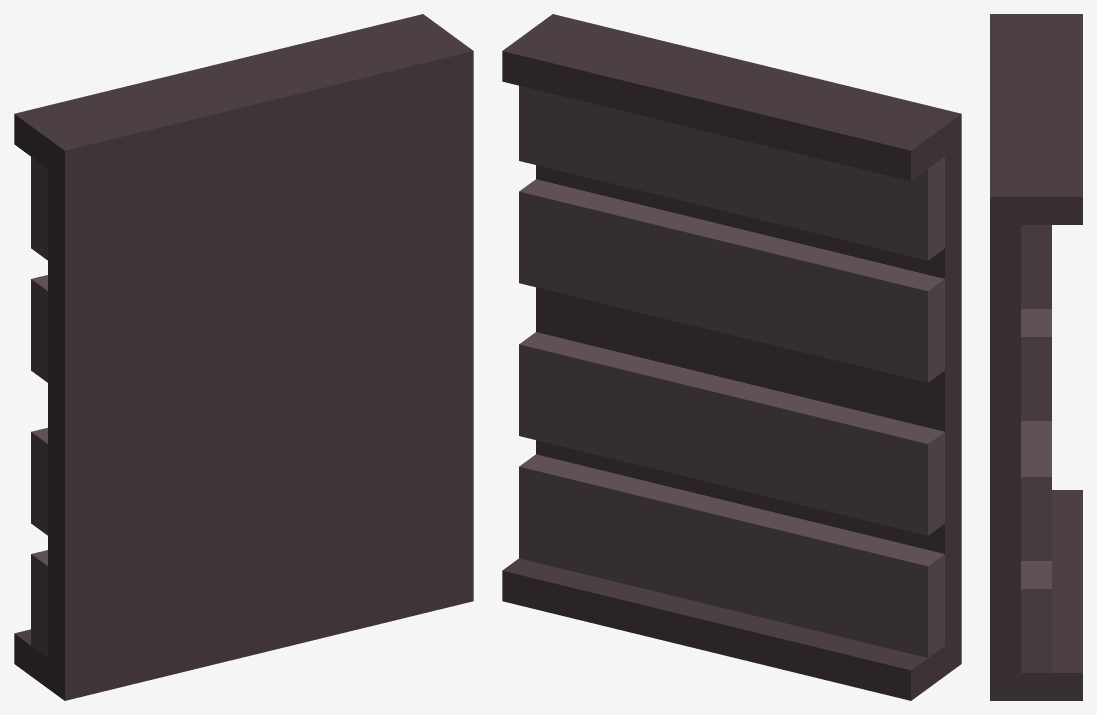
Rendered from caja 2 partida-0.obj.
3 renders of one model, left to right at view 1: azimuth 30°, elevation 25°; view 2: azimuth 150°, elevation 25°; view 3: azimuth 270°, elevation 25°, orthographic. The views are drawn at different scales.
Bounding box in the file's own units: 1.4 × 1.8 × 0.3.
1 material, 1 textured.
